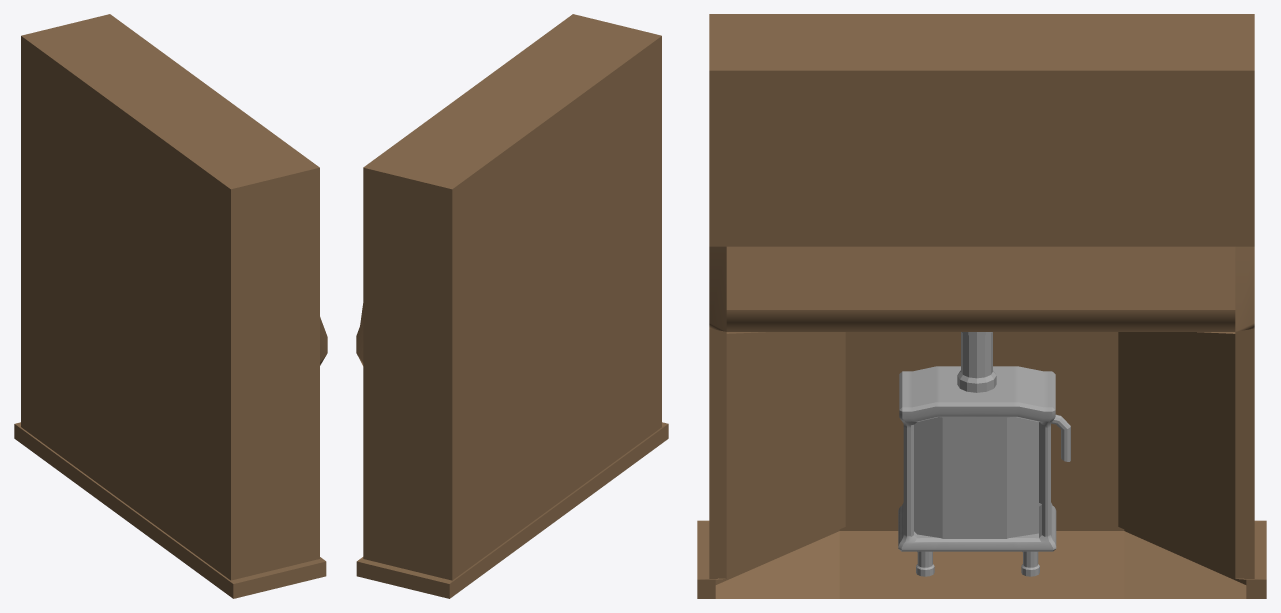
The model's file is PAST-FireplaceWall.fbx.
3 views of the same model, side by side, from view 1: azimuth 30°, elevation 25°; view 2: azimuth 150°, elevation 25°; view 3: azimuth 270°, elevation 25° (orthographic). The views are drawn at different scales.
Parts seen in each view (by area): view 1: Fireplacewall; view 2: Fireplacewall; view 3: Fireplacewall, pCylinder29.
Boxes of the visible parts, x1=… form: Fireplacewall: x1=14, y1=14, x2=327, y2=598; Fireplacewall: x1=356, y1=14, x2=668, y2=598; Fireplacewall: x1=697, y1=14, x2=1266, y2=598; pCylinder29: x1=898, y1=332, x2=1070, y2=576.
Bounding box in the file's own units: 174 × 640 × 626.
